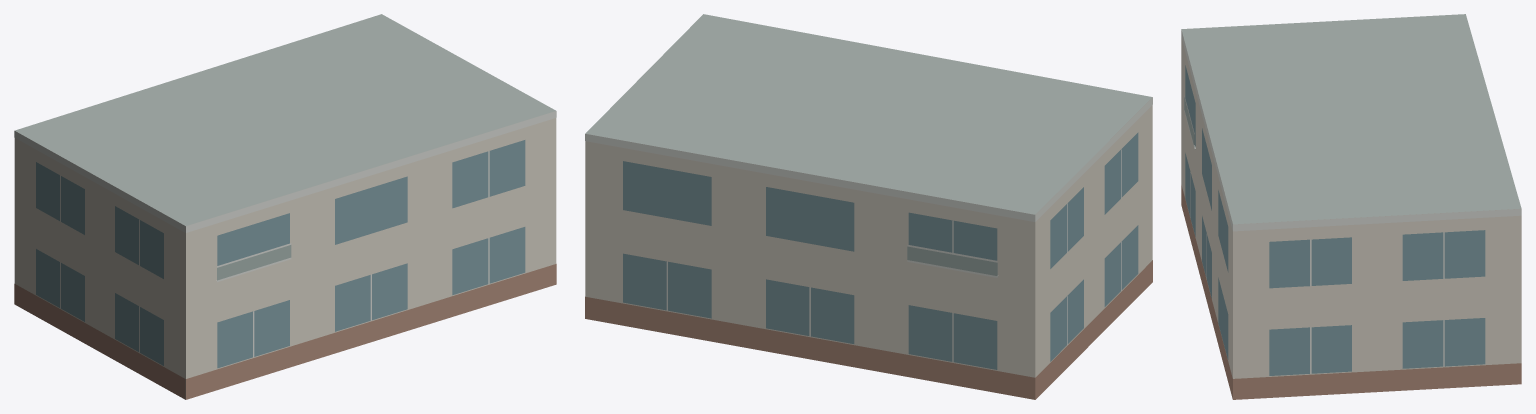
File: survey-upis-32717121.glb
The picture shows the model from 3 angles, left to right: view 1: azimuth 30°, elevation 25°; view 2: azimuth 150°, elevation 25°; view 3: azimuth 270°, elevation 25°; orthographic projection. The views are drawn at different scales.
Parts seen in each view (by area): view 1: survey-upis-32717121.tmp; view 2: survey-upis-32717121.tmp; view 3: survey-upis-32717121.tmp.
Part boxes in pixels (bbox=[...]): survey-upis-32717121.tmp: bbox=[14, 14, 556, 399]; survey-upis-32717121.tmp: bbox=[585, 14, 1152, 399]; survey-upis-32717121.tmp: bbox=[1181, 14, 1521, 399].
Bounding box in the file's own units: 15.69 × 6.1 × 10.73.
